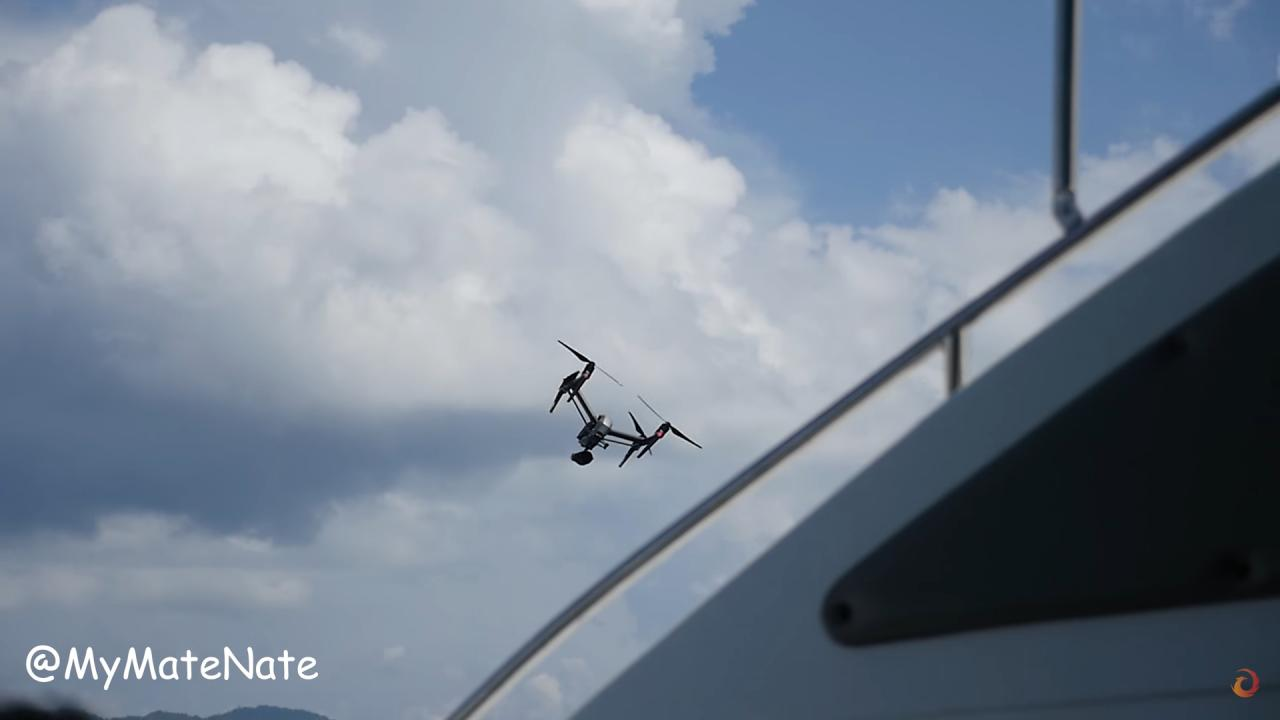Drone: (540, 328, 712, 475)
